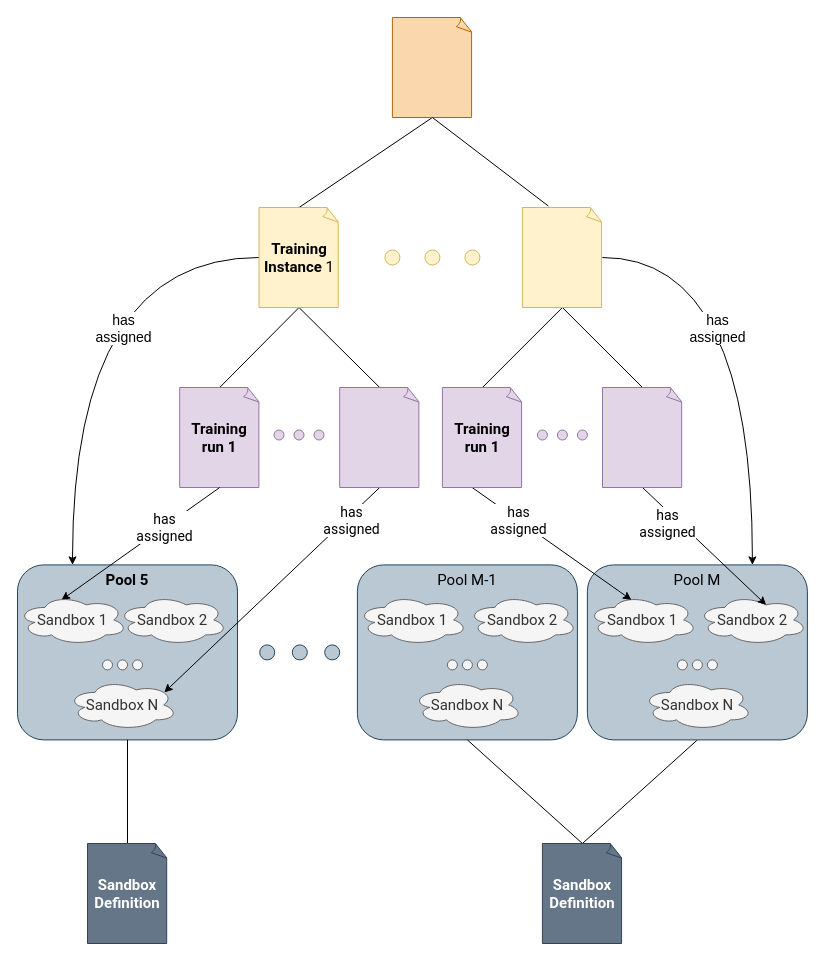
Image size: 825x961. Some labels were removed from this diagram. The centre of each missing label's shape, as x and y in pixels:
"Training Definition" goes at (431,67).
"Training Instance J" goes at (561,257).
"Training run K" goes at (642,437).
"Training run N" goes at (379,437).
